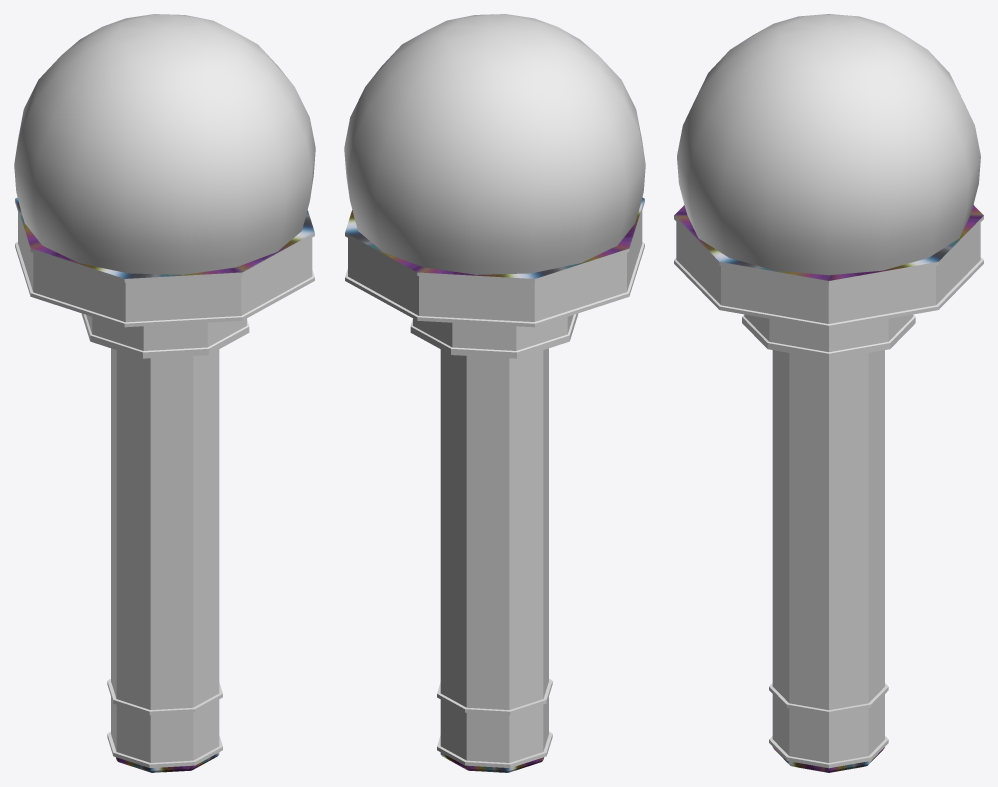
Rendered from P26_T04_LS_SEVENTEEN_LIT.glb.
3 views of the same model, side by side, from view 1: azimuth 30°, elevation 25°; view 2: azimuth 150°, elevation 25°; view 3: azimuth 270°, elevation 25° (orthographic).
Visible parts, largest first — view 1: SEVENTEEN; view 2: SEVENTEEN; view 3: SEVENTEEN.
Boxes of the visible parts, box(x1,y1,x2,y2) form: SEVENTEEN: box(14, 14, 315, 772); SEVENTEEN: box(344, 14, 645, 772); SEVENTEEN: box(674, 14, 983, 772).
Bounding box in the file's own units: 0.21 × 0.5389 × 0.21.
5 materials, 2 textured.
